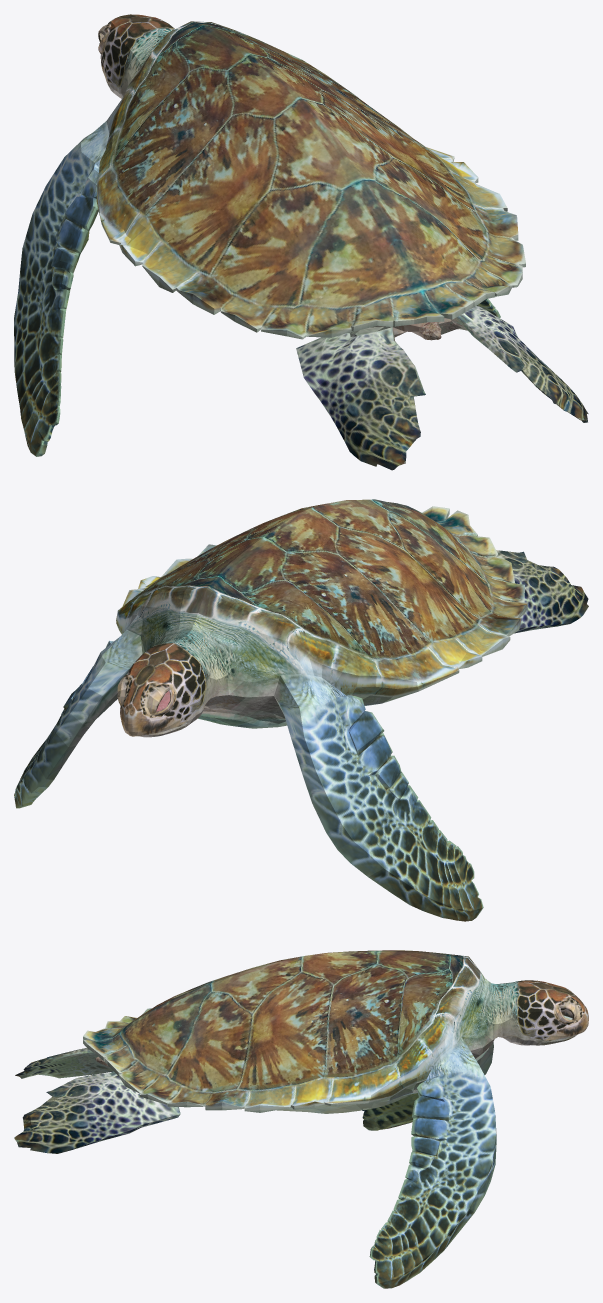
Rendered from frame_23.obj.
3 renders of one model, top to bottom at view 1: azimuth 30°, elevation 25°; view 2: azimuth 150°, elevation 25°; view 3: azimuth 270°, elevation 25°, orthographic. The views are drawn at different scales.
Visible parts, largest first — view 1: Turtle GEO Turtle; view 2: Turtle GEO Turtle; view 3: Turtle GEO Turtle.
Part boxes in pixels (bbox=[...]): Turtle GEO Turtle: bbox=[14, 14, 588, 470]; Turtle GEO Turtle: bbox=[14, 499, 588, 921]; Turtle GEO Turtle: bbox=[14, 950, 588, 1288].
Size of the model in its own units: 69.96 by 49.27 by 99.19.
1 material, 1 textured.
